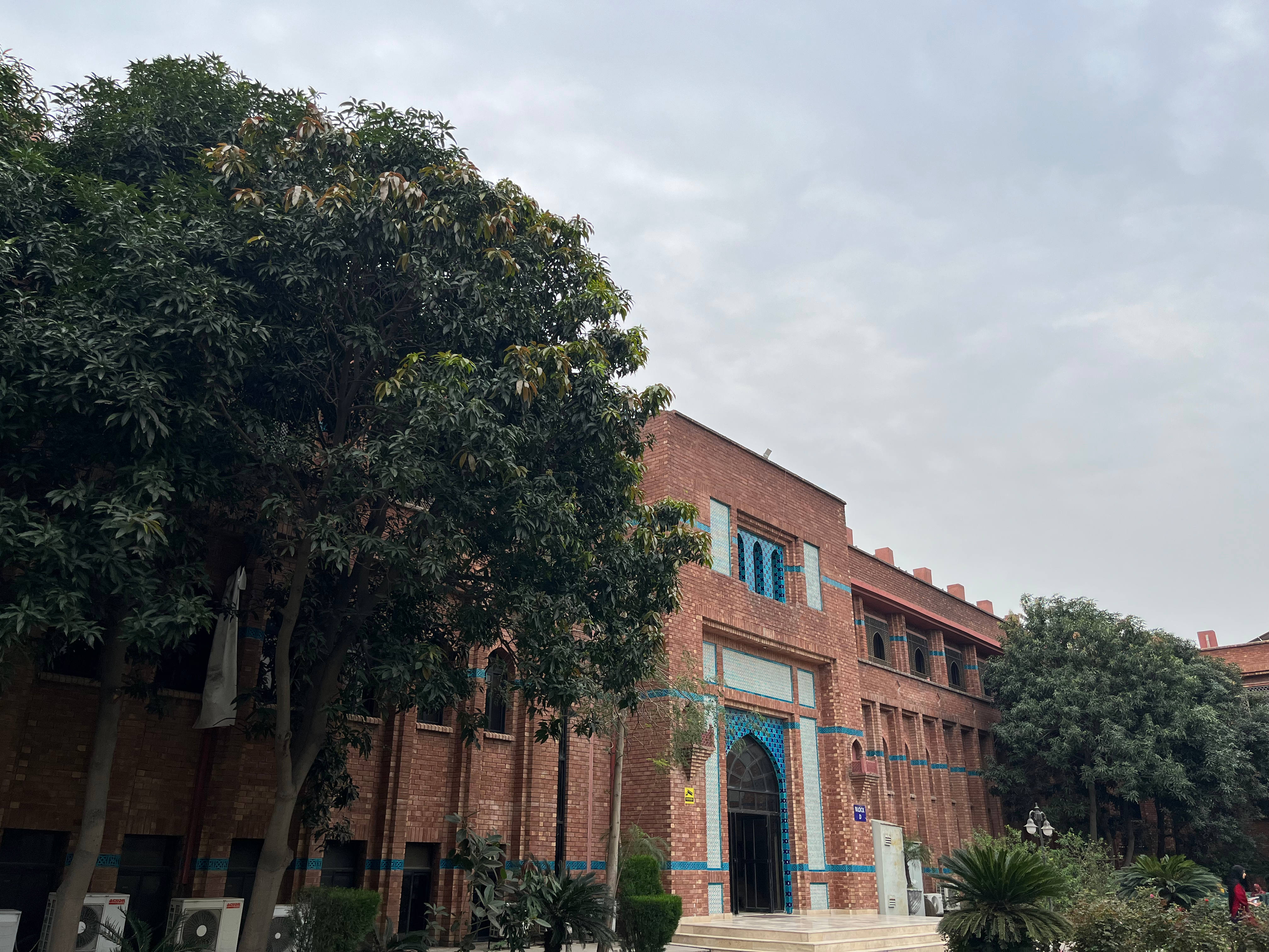Block D: (428, 405, 1269, 937)
